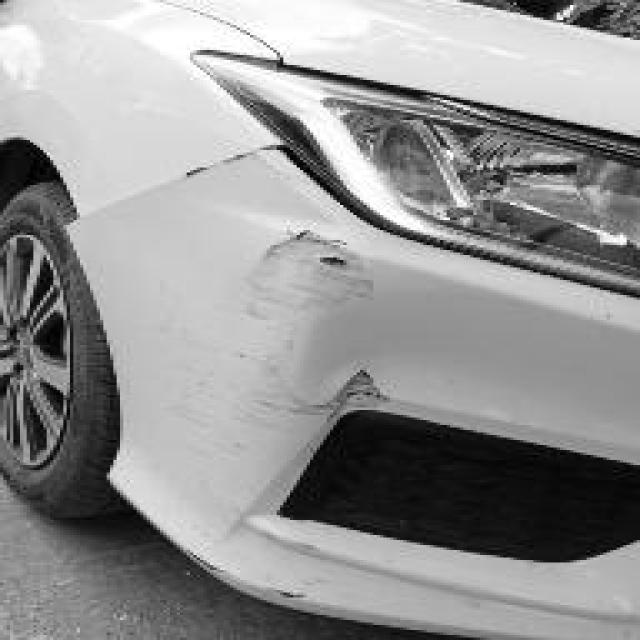Bumper: (132, 156, 640, 616)
